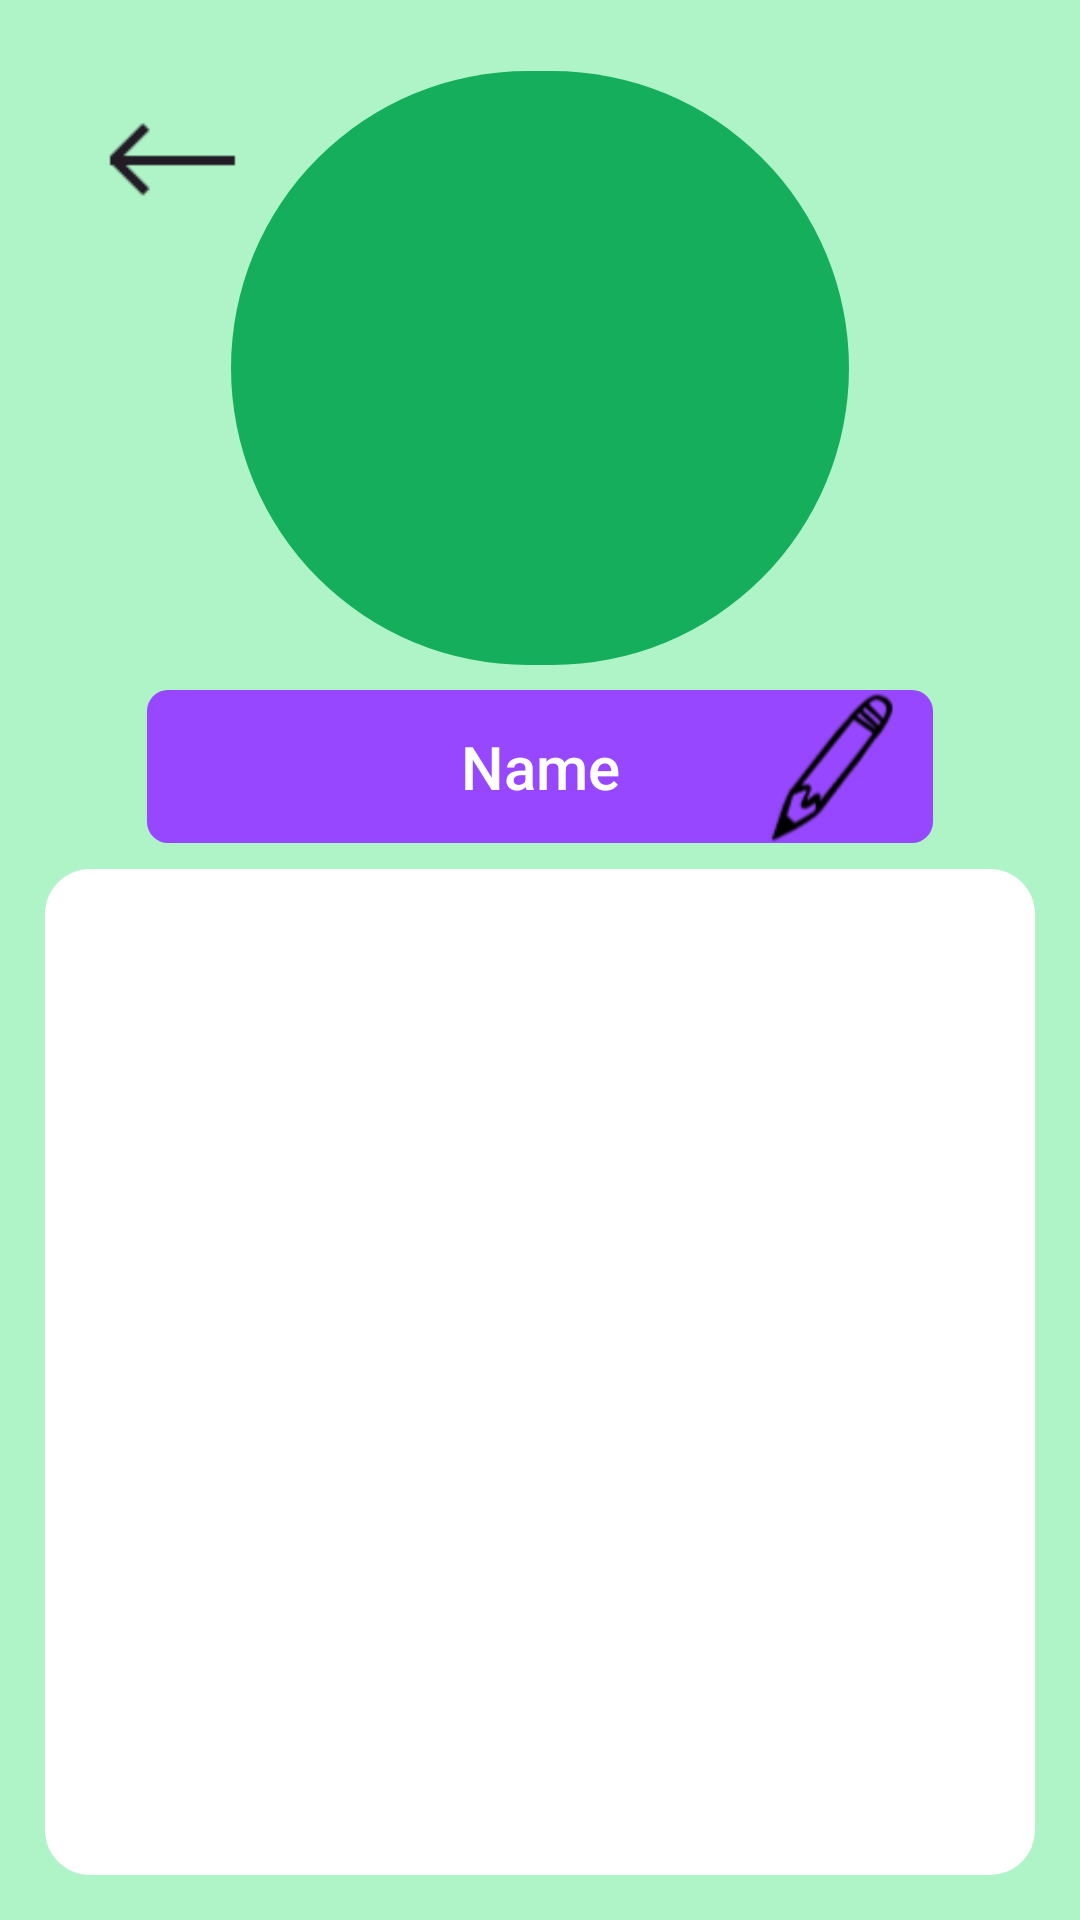

Where icons sit on this 1080x1920 app screen, as (x1, y1, x2, y2):
edit: (738, 690, 933, 843)
